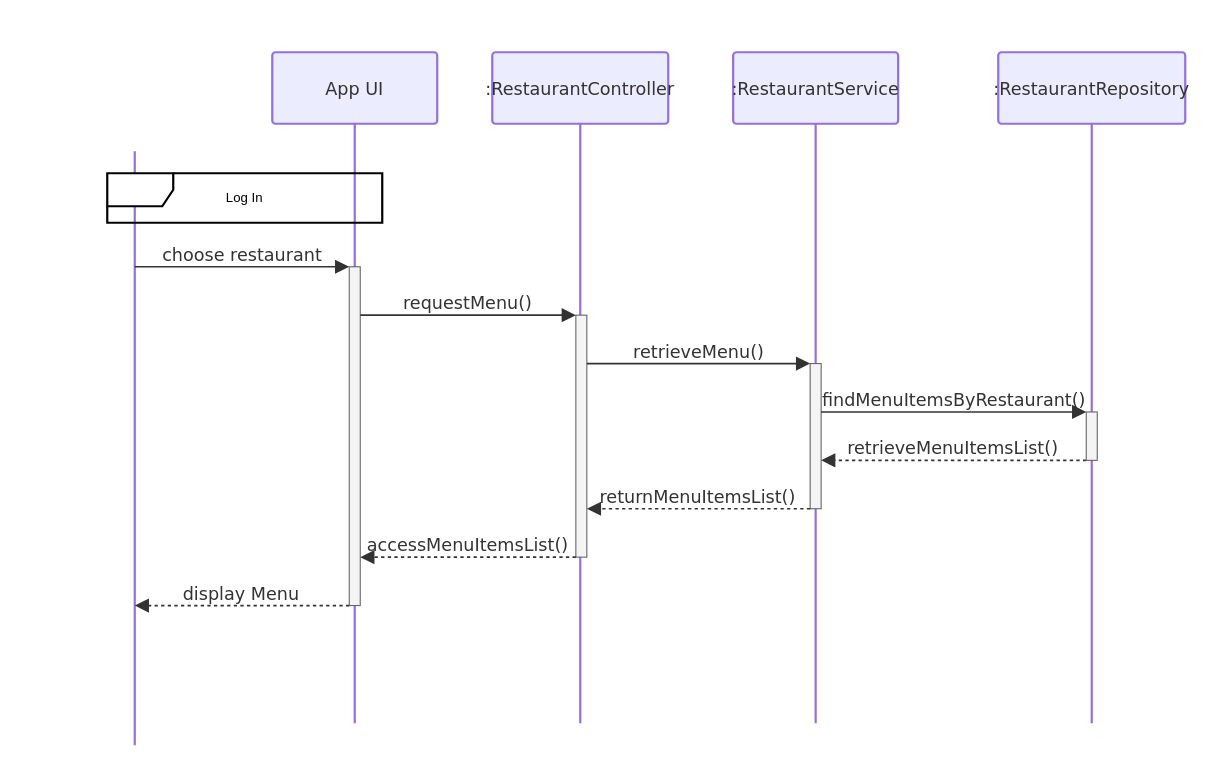
The diagram is 1214 pixels wide and 774 high, and some of its shapes have lost their labels. The box of each missing label's shape, as (x1, y1, x2, y2) in pixels:
Ref: (106, 172, 383, 223)
User: (51, 51, 218, 746)
